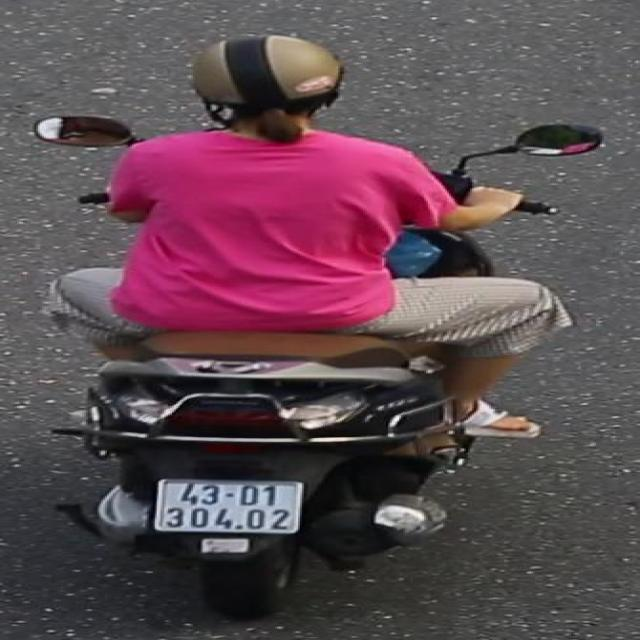LP: (148, 470, 312, 540)
helmet: (176, 33, 355, 148)
